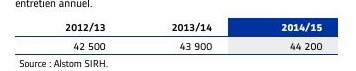table: (0, 0, 356, 71)
